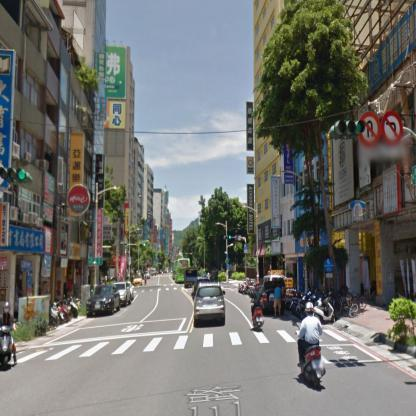Green Light: (0, 166, 31, 182), (331, 121, 364, 134)
